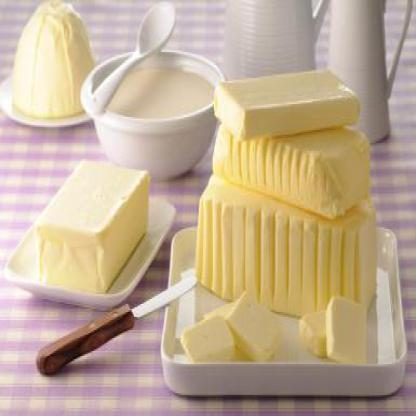broccoli: (197, 172, 379, 327), (210, 106, 369, 220), (35, 158, 148, 294), (212, 65, 361, 140)
